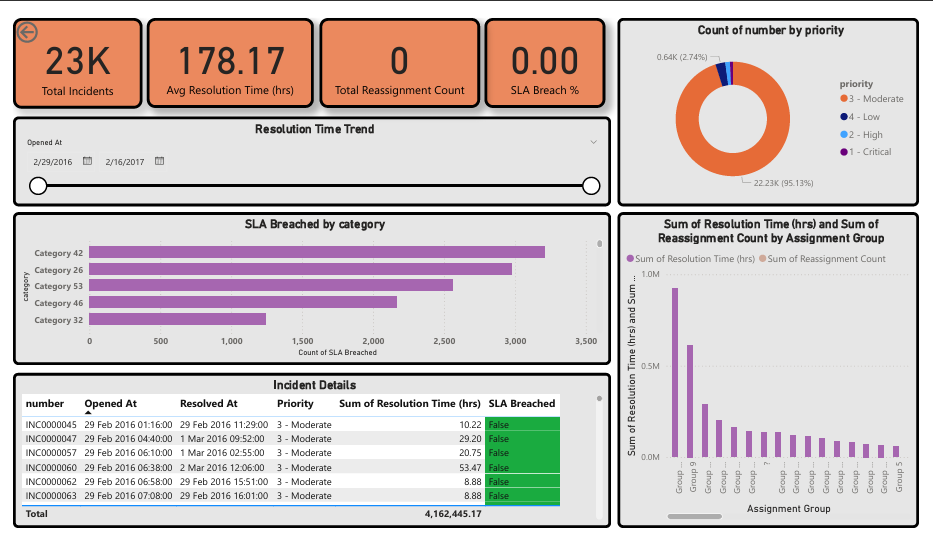

What the dashboard file says about the page in this screenshot:
{"tool":"powerbi","page":{"name":"Duplicate of Page 1","canvas":[1280,720],"ordinal":0},"visuals":[{"type":"card","fields":{"Values":["incident_event_log (2).Total Incidents"]},"box":[0,0,182.5,127.5],"z":0},{"type":"card","fields":{"Values":["incident_event_log (2).SLA Breach %"]},"box":[666.4,0,170.9,127.3],"z":1000},{"type":"card","fields":{"Values":["incident_event_log (2).Avg Resolution Time (hrs)"]},"box":[189.1,0,236.4,127.3],"z":2000},{"type":"slicer","title":" Resolution Time Trend","fields":{"Values":["incident_event_log (2).Opened At"]},"box":[0,139.1,845.5,127.3],"z":3000},{"type":"card","fields":{"Values":["Sum(incident_event_log (2).Reassignment Count)"]},"box":[432.7,0,227.3,127.3],"z":4000},{"type":"tableEx","title":"Incident Details","fields":{"Values":["incident_event_log (2).number","incident_event_log (2).Opened At","incident_event_log (2).Resolved At","incident_event_log (2).priority","Sum(incident_event_log (2).Resolution Time (hrs))","incident_event_log (2).SLA Breached"]},"box":[0,500.9,845.5,219.1],"z":5000},{"type":"actionButton","box":[0,0,85,40],"z":6000},{"type":"donutChart","fields":{"Category":["incident_event_log (2).priority"],"Y":["CountNonNull(incident_event_log (2).number)"]},"box":[853.6,0,426.4,266.4],"z":7000},{"type":"clusteredBarChart","title":" SLA Breached by category","fields":{"Category":["incident_event_log (2).category"],"Y":["CountNonNull(incident_event_log (2).SLA Breached)"]},"box":[0,273.6,845.5,216.4],"z":8000},{"type":"clusteredColumnChart","fields":{"Category":["incident_event_log (2).Assignment Group"],"Y":["Sum(incident_event_log (2).Resolution Time (hrs))","Sum(incident_event_log (2).Reassignment Count)"]},"box":[853.6,273.6,426.4,446.4],"z":9000}]}

Visuals, with their boxes in screenshot pixels (x1, y1, x2, y2):
card - incident_event_log (2).Total Incidents: [x1=27, y1=19, x2=153, y2=108]
card - incident_event_log (2).SLA Breach %: [x1=489, y1=19, x2=607, y2=108]
card - incident_event_log (2).Avg Resolution Time (hrs): [x1=158, y1=19, x2=322, y2=108]
" Resolution Time Trend" slicer: [x1=27, y1=116, x2=613, y2=204]
card - Sum(incident_event_log (2).Reassignment Count): [x1=327, y1=19, x2=484, y2=108]
"Incident Details" tableEx: [x1=27, y1=367, x2=613, y2=519]
actionButton: [x1=27, y1=19, x2=86, y2=47]
donutChart - incident_event_log (2).priority x CountNonNull(incident_event_log (2).number): [x1=619, y1=19, x2=914, y2=204]
" SLA Breached by category" clusteredBarChart: [x1=27, y1=209, x2=613, y2=359]
clusteredColumnChart - incident_event_log (2).Assignment Group x Sum(incident_event_log (2).Resolution Time (hrs)): [x1=619, y1=209, x2=914, y2=519]
